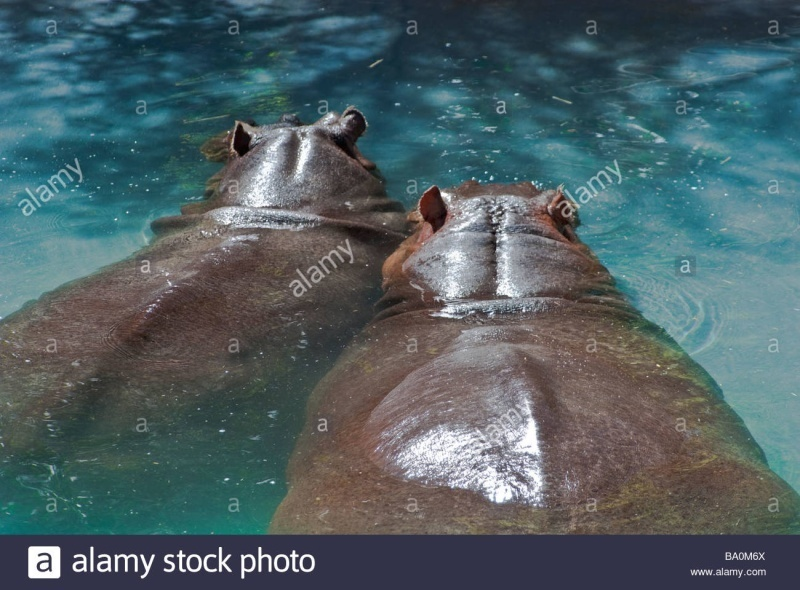hipopotamo: (306, 164, 780, 535), (8, 110, 414, 456)
